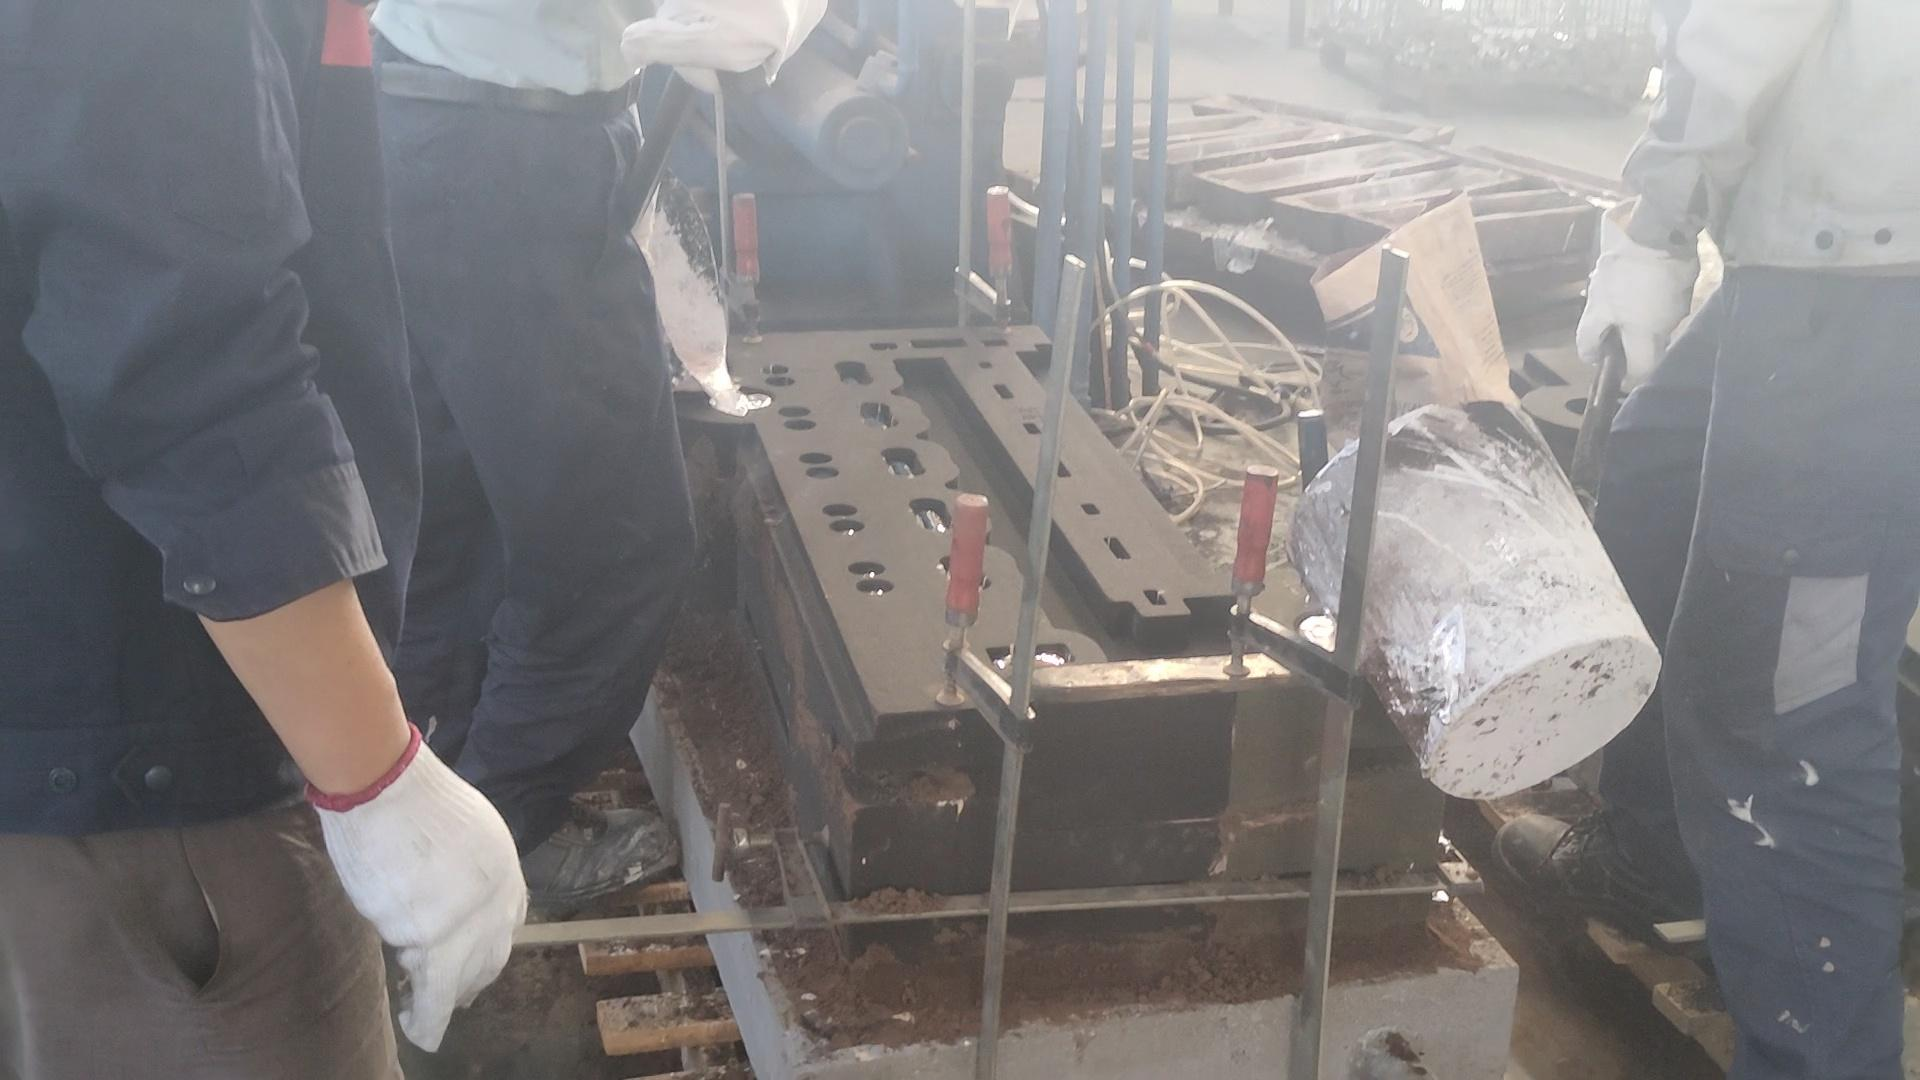pouring hole: (1296, 609, 1371, 665), (707, 386, 774, 414), (1567, 392, 1627, 422)
